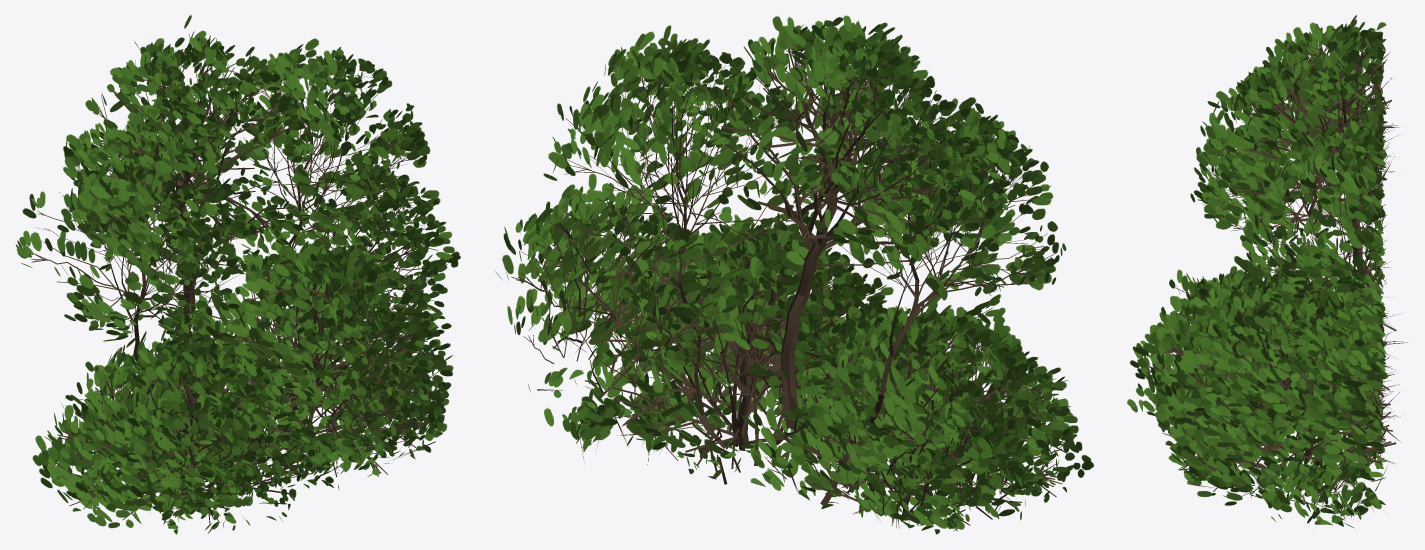
3 views of the same model, side by side, from view 1: azimuth 30°, elevation 25°; view 2: azimuth 150°, elevation 25°; view 3: azimuth 270°, elevation 25° (orthographic). The views are drawn at different scales.
Parts seen in each view (by area): view 1: oak 01.001_trunk_Mat.001_0.346; view 2: oak 01.001_trunk_Mat.001_0.346; view 3: oak 01.001_trunk_Mat.001_0.346.
Boxes of the visible parts, x1=… form: oak 01.001_trunk_Mat.001_0.346: x1=15, y1=15, x2=460, y2=534; oak 01.001_trunk_Mat.001_0.346: x1=495, y1=15, x2=1093, y2=534; oak 01.001_trunk_Mat.001_0.346: x1=1127, y1=15, x2=1407, y2=528.
Bounding box in the file's own units: 4.67 × 4.34 × 2.69.
2 materials, 1 textured.
